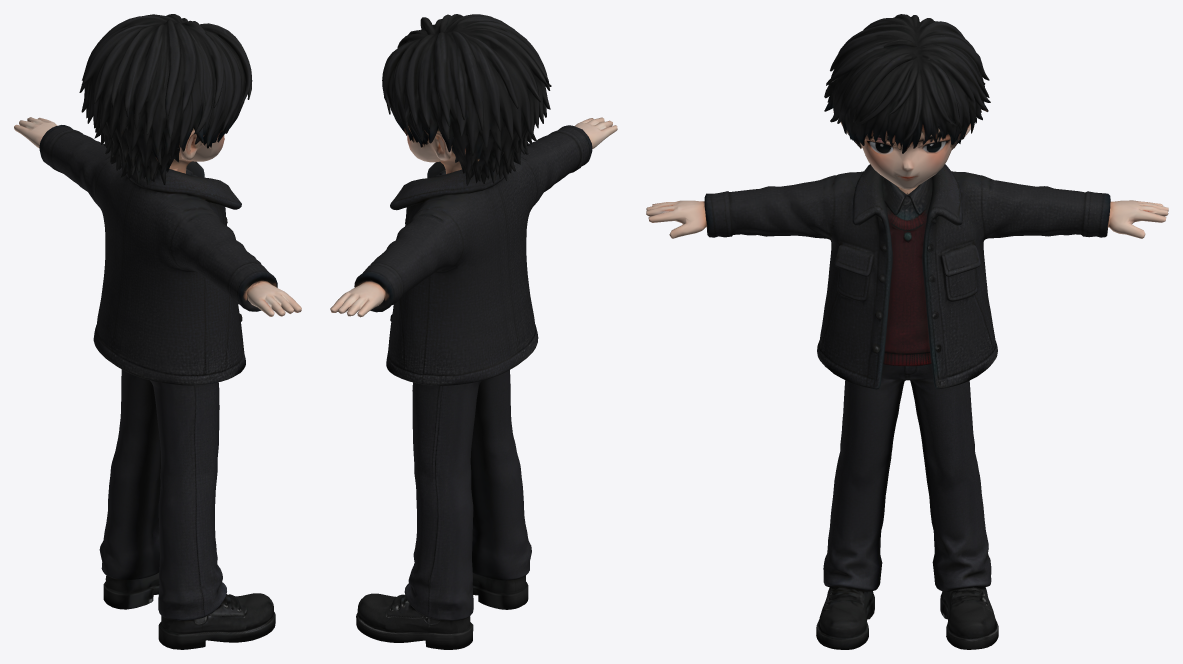
File: 03-rebel-base.glb
The picture shows the model from 3 angles, left to right: view 1: azimuth 30°, elevation 25°; view 2: azimuth 150°, elevation 25°; view 3: azimuth 270°, elevation 25°; orthographic projection.
Visible parts, largest first — view 1: tripo_node_e7e6a22f-fa96-4bf3-aee4-0fde6cf75d75; view 2: tripo_node_e7e6a22f-fa96-4bf3-aee4-0fde6cf75d75; view 3: tripo_node_e7e6a22f-fa96-4bf3-aee4-0fde6cf75d75.
Boxes of the visible parts, x1=… form: tripo_node_e7e6a22f-fa96-4bf3-aee4-0fde6cf75d75: x1=14, y1=14, x2=301, y2=649; tripo_node_e7e6a22f-fa96-4bf3-aee4-0fde6cf75d75: x1=330, y1=14, x2=617, y2=649; tripo_node_e7e6a22f-fa96-4bf3-aee4-0fde6cf75d75: x1=646, y1=14, x2=1168, y2=649.
Size of the model in its own units: 0.2599 by 1 by 0.7985.
Materials: 1 (1 with a texture image).
